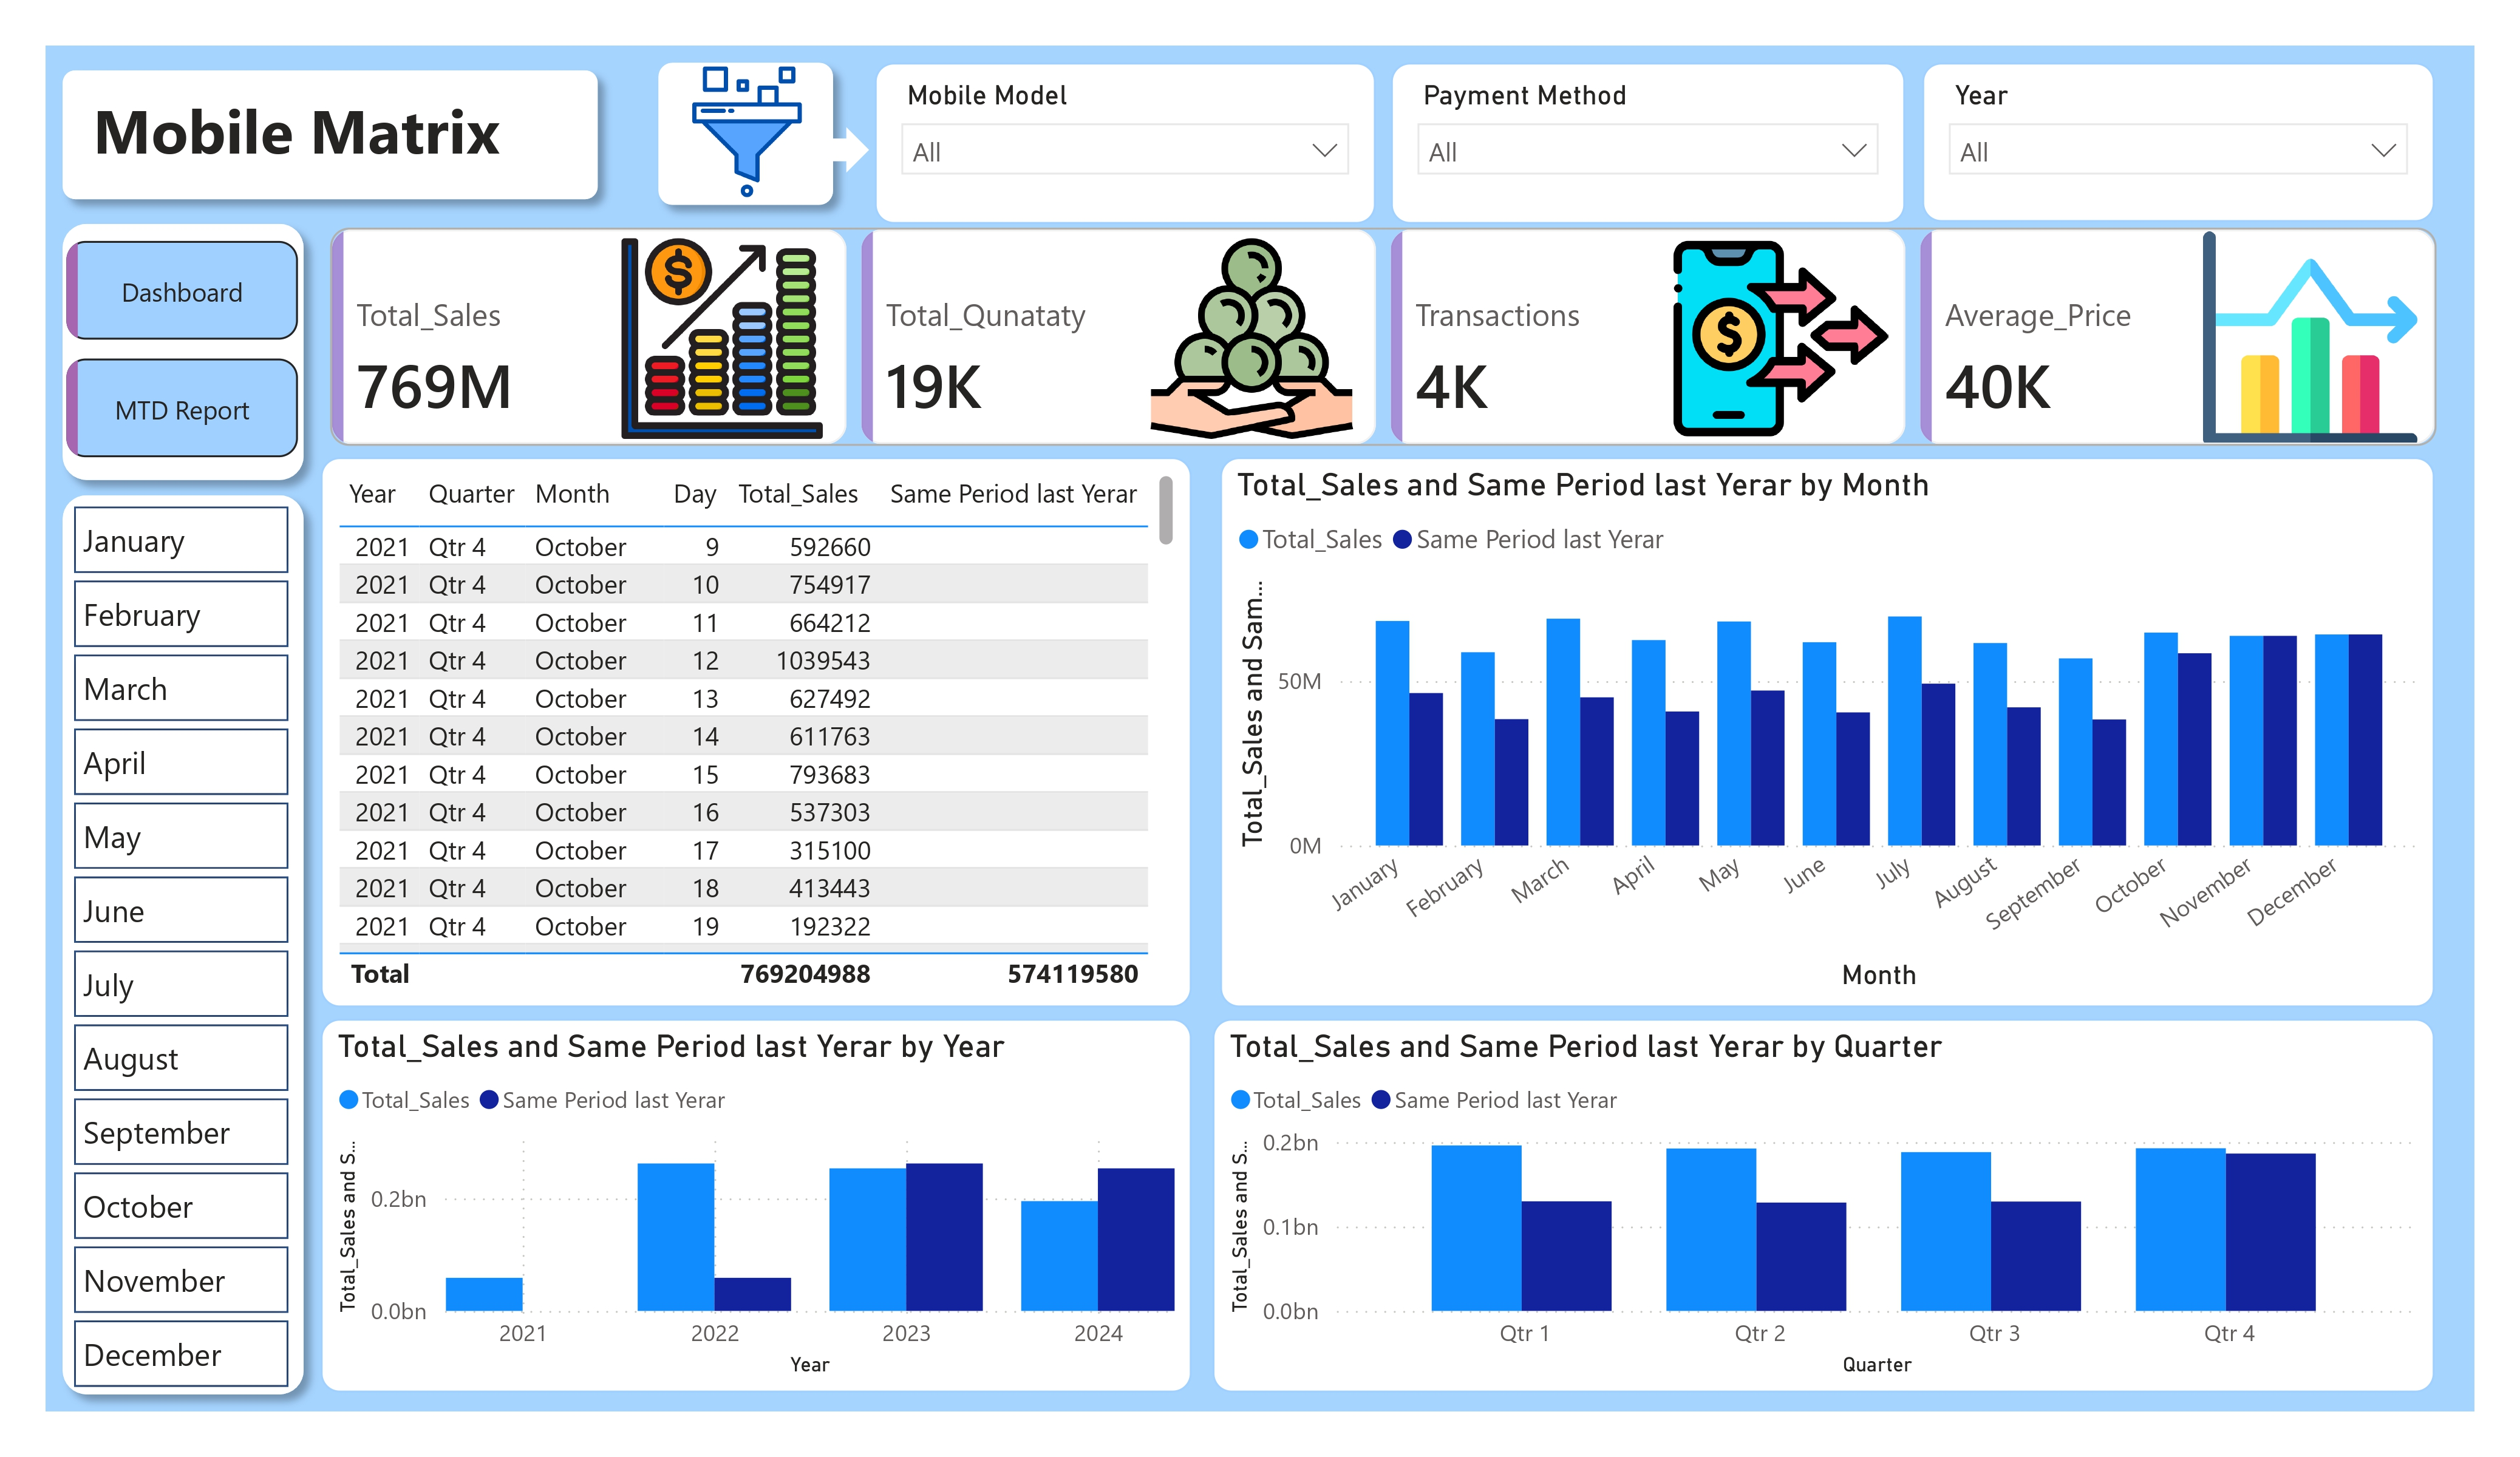

What the dashboard file says about the page in this screenshot:
{"tool":"powerbi","page":{"name":"Same Period Last Year","canvas":[1280,720],"ordinal":2},"visuals":[{"type":"shape","box":[0,4.3,300,85.7],"z":0},{"type":"shape","box":[0,85,144.6,153.1],"z":1000},{"type":"cardVisual","fields":{"Data":["Sales_Data.Total_Sales","Sales_Data.Total_Qunataty","Sales_Data.Transactions","Sales_Data.Average_Price"]},"box":[133.2,79.4,1146.6,148.8],"z":2000},{"type":"slicer","fields":{"Values":["Sales_Data.Mobile Model"]},"box":[437.1,8.6,264.3,85.7],"z":3000},{"type":"slicer","fields":{"Values":["Sales_Data.Payment Method"]},"box":[708.6,8.6,271.4,85.7],"z":4000},{"type":"slicer","fields":{"Values":["Custom_calendar.Date.Variation.Date Hierarchy.Year"]},"box":[988.6,8.6,270,84.3],"z":5000},{"type":"shape","box":[314.3,0,110,92.9],"z":6000},{"type":"image","box":[314.3,10,110,71.4],"z":7000},{"type":"shape","box":[395.7,42.9,38.6,24.3],"z":8000},{"type":"textbox","box":[20,17.1,258.6,61.4],"z":9000},{"type":"shape","box":[0,228.2,144.6,491.8],"z":10000},{"type":"tableEx","fields":{"Values":["Custom_calendar.Date.Variation.Date Hierarchy.Year","Custom_calendar.Date.Variation.Date Hierarchy.Quarter","Custom_calendar.Date.Variation.Date Hierarchy.Month","Custom_calendar.Date.Variation.Date Hierarchy.Day","Sales_Data.Total_Sales","Sales_Data.Same Period last Yerar"]},"box":[144.6,216.9,459.2,290.6],"z":11000},{"type":"clusteredColumnChart","fields":{"Category":["Custom_calendar.Date.Variation.Date Hierarchy.Year","Custom_calendar.Date.Variation.Date Hierarchy.Quarter","Custom_calendar.Date.Variation.Date Hierarchy.Month","Custom_calendar.Date.Variation.Date Hierarchy.Day"],"Y":["Sales_Data.Total_Sales","Sales_Data.Same Period last Yerar"]},"box":[619.4,216.9,639.2,290.6],"z":12000},{"type":"clusteredColumnChart","fields":{"Category":["Custom_calendar.Date.Variation.Date Hierarchy.Year","Custom_calendar.Date.Variation.Date Hierarchy.Quarter","Custom_calendar.Date.Variation.Date Hierarchy.Month","Custom_calendar.Date.Variation.Date Hierarchy.Day"],"Y":["Sales_Data.Total_Sales","Sales_Data.Same Period last Yerar"]},"box":[144.6,513.1,459.2,197],"z":13000},{"type":"clusteredColumnChart","fields":{"Category":["Custom_calendar.Date.Variation.Date Hierarchy.Year","Custom_calendar.Date.Variation.Date Hierarchy.Quarter","Custom_calendar.Date.Variation.Date Hierarchy.Month","Custom_calendar.Date.Variation.Date Hierarchy.Day"],"Y":["Sales_Data.Total_Sales","Sales_Data.Same Period last Yerar"]},"box":[615.1,513.1,643.5,197],"z":14000},{"type":"advancedSlicerVisual","fields":{"Values":["Custom_calendar.Date.Variation.Date Hierarchy.Month"]},"box":[9.9,238.1,123.3,481.9],"z":15000},{"type":"pageNavigator","box":[11.3,103.5,121.9,113.4],"z":16000}]}

Visuals, with their boxes on the page's 1280x720 design canvas (x1, y1, x2, y2). These are canvas units, not pixel positions in the 2520x1457 screenshot, which may show the page scaled, cropped or inside an application window:
shape: (0, 4, 300, 90)
shape: (0, 85, 145, 238)
cardVisual - Sales_Data.Total_Sales x Sales_Data.Total_Qunataty: (133, 79, 1280, 228)
slicer - Sales_Data.Mobile Model: (437, 9, 701, 94)
slicer - Sales_Data.Payment Method: (709, 9, 980, 94)
slicer - Custom_calendar.Date.Variation.Date Hierarchy.Year: (989, 9, 1259, 93)
shape: (314, 0, 424, 93)
image: (314, 10, 424, 81)
shape: (396, 43, 434, 67)
textbox: (20, 17, 279, 78)
shape: (0, 228, 145, 720)
tableEx - Custom_calendar.Date.Variation.Date Hierarchy.Year x Custom_calendar.Date.Variation.Date Hierarchy.Quarter: (145, 217, 604, 508)
clusteredColumnChart - Custom_calendar.Date.Variation.Date Hierarchy.Year x Custom_calendar.Date.Variation.Date Hierarchy.Quarter: (619, 217, 1259, 508)
clusteredColumnChart - Custom_calendar.Date.Variation.Date Hierarchy.Year x Custom_calendar.Date.Variation.Date Hierarchy.Quarter: (145, 513, 604, 710)
clusteredColumnChart - Custom_calendar.Date.Variation.Date Hierarchy.Year x Custom_calendar.Date.Variation.Date Hierarchy.Quarter: (615, 513, 1259, 710)
advancedSlicerVisual - Custom_calendar.Date.Variation.Date Hierarchy.Month: (10, 238, 133, 720)
pageNavigator: (11, 104, 133, 217)
